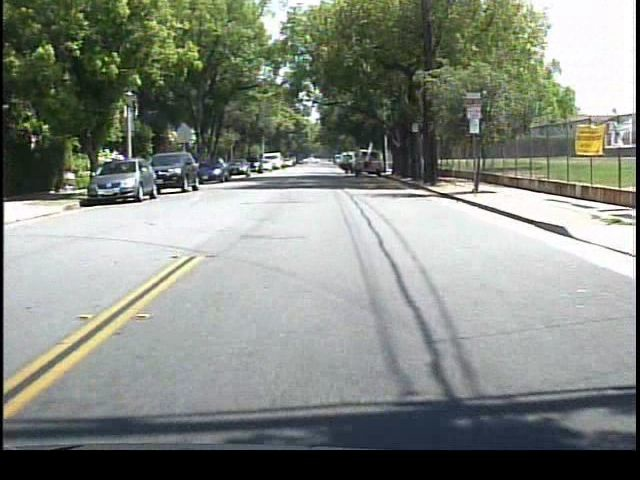person: (339, 153, 355, 178)
